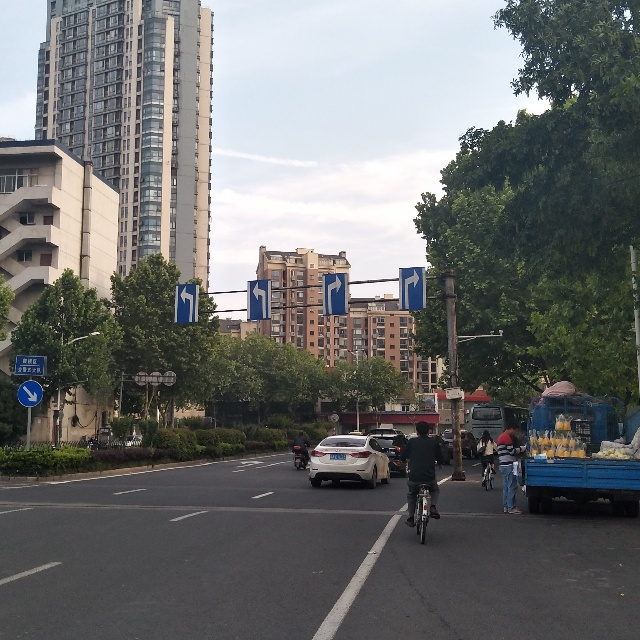left: (173, 282, 203, 327), (244, 279, 271, 329)
right: (395, 263, 426, 321), (322, 266, 353, 319)
